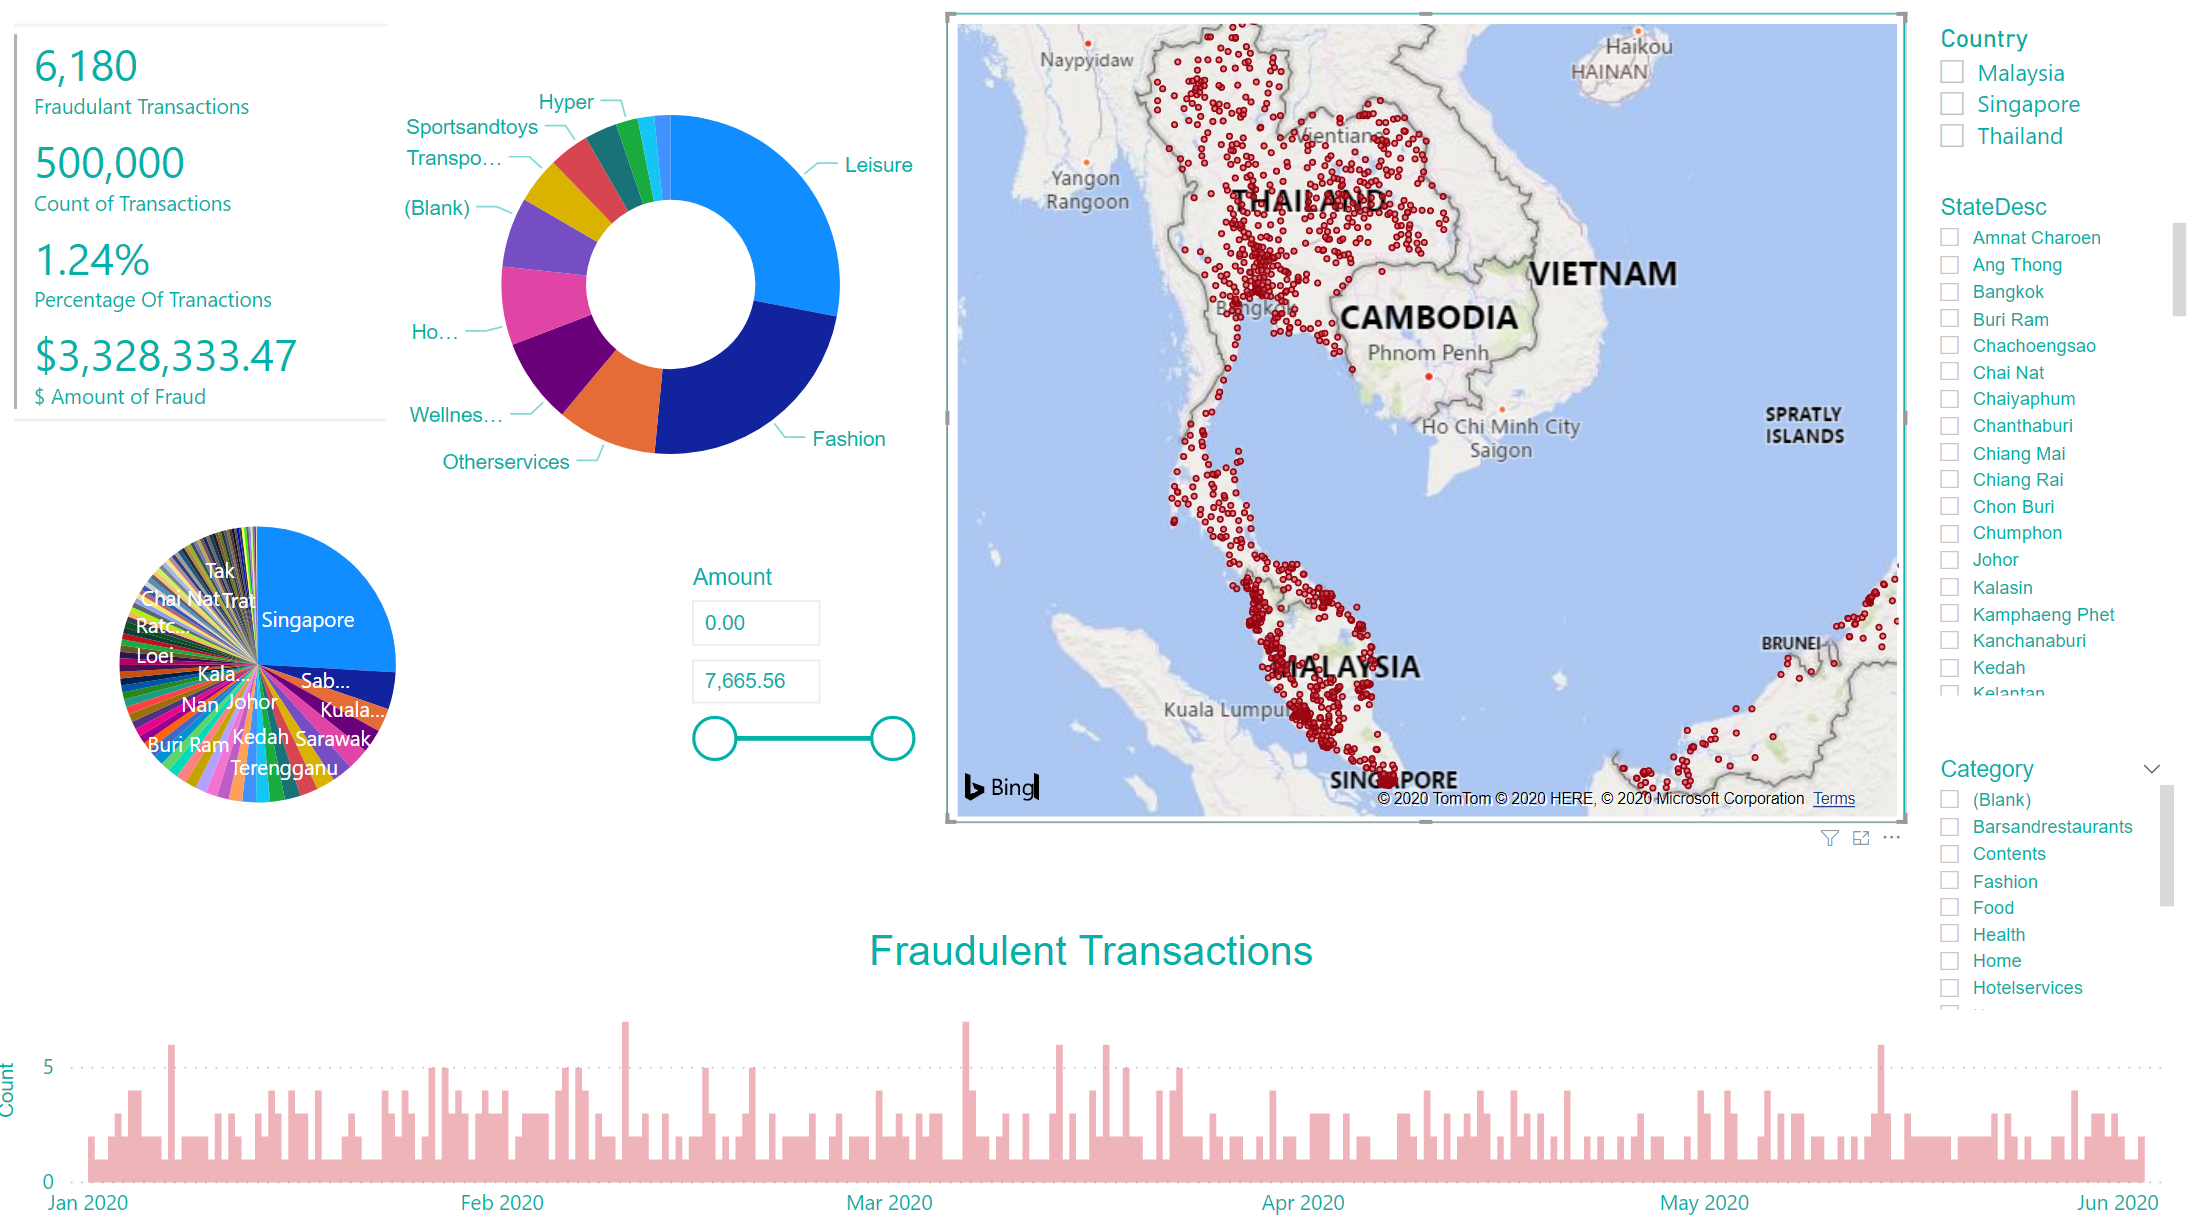

This screenshot's page, from the dashboard's own definition file:
{"tool":"powerbi","page":{"name":"Fraudulent Transactions","canvas":[1280,720],"ordinal":0},"visuals":[{"type":"donutChart","title":"by Category","fields":{"Category":["BC_MERCH_CATEGORY.BC_MERCH_CAT_DESC"],"Y":["CountNonNull(BC_TRANSACTIONS.ID)"]},"box":[236,11.7,320.2,314.4],"z":0},{"type":"map","fields":{"Y":["BC_TRANS_LOC.myLatitude"],"X":["BC_TRANS_LOC.myLongitude"],"Series":["BC_TRANSACTIONS.BC_TRANS_IS_FRAUD"]},"box":[556.2,11.7,556.2,470.3],"z":1000},{"type":"pieChart","title":"by State","fields":{"Y":["CountNonNull(BC_TRANS_LOC.ID)"],"Category":["BC_TRANS_LOC.StateDesc"]},"box":[15,267.7,282.8,243.2],"z":2000},{"type":"multiRowCard","fields":{"Values":["BC_TRANSACTIONS.Fraud Transactions %","BC_TRANSACTIONS.Count of Transactions","BC_TRANSACTIONS.Percentage Of Fraud","BC_TRANSACTIONS.BC_TRANS_AMOUNT for True"]},"box":[9.5,11.9,226.5,244.8],"z":3000},{"type":"stackedAreaChart","title":"Fraudulent Transactions","fields":{"Category":["BC_TRANSACTIONS.BC_TRANS_DATE"],"Series":["BC_TRANSACTIONS.BC_TRANS_IS_FRAUD"],"Y":["CountNonNull(BC_TRANSACTIONS.ID)"]},"box":[0,542.1,1280,178.1],"z":4000},{"type":"slicer","fields":{"Values":["BC_TRANS_LOC.StateDesc"]},"box":[1119.7,111.5,160.7,302.3],"z":5000},{"type":"slicer","fields":{"Values":["BC_TRANSACTIONS.BC_TRANS_AMOUNT"]},"box":[395.6,326.4,152.6,160.7],"z":6000},{"type":"slicer","fields":{"Values":["BC_MERCH_CATEGORY.BC_MERCH_CAT_DESC"]},"box":[1119.7,437.8,153.6,157.7],"z":7000},{"type":"slicer","fields":{"Values":["BC_TRANS_LOC.Country"]},"box":[1119.7,12.1,160.7,92.4],"z":8000}]}

Visuals, with their boxes in screenshot pixels (x1, y1, x2, y2), scaled from the page's 1280x720 canvas onto the 2194x1221 screenshot:
"by Category" donutChart: 405/20/953/553
map - BC_TRANS_LOC.myLatitude x BC_TRANS_LOC.myLongitude: 953/20/1907/817
"by State" pieChart: 26/454/510/866
multiRowCard - BC_TRANSACTIONS.Fraud Transactions % x BC_TRANSACTIONS.Count of Transactions: 16/20/405/435
"Fraudulent Transactions" stackedAreaChart: 0/919/2193/1220
slicer - BC_TRANS_LOC.StateDesc: 1919/189/2193/702
slicer - BC_TRANSACTIONS.BC_TRANS_AMOUNT: 678/554/940/826
slicer - BC_MERCH_CATEGORY.BC_MERCH_CAT_DESC: 1919/742/2183/1010
slicer - BC_TRANS_LOC.Country: 1919/21/2193/177
